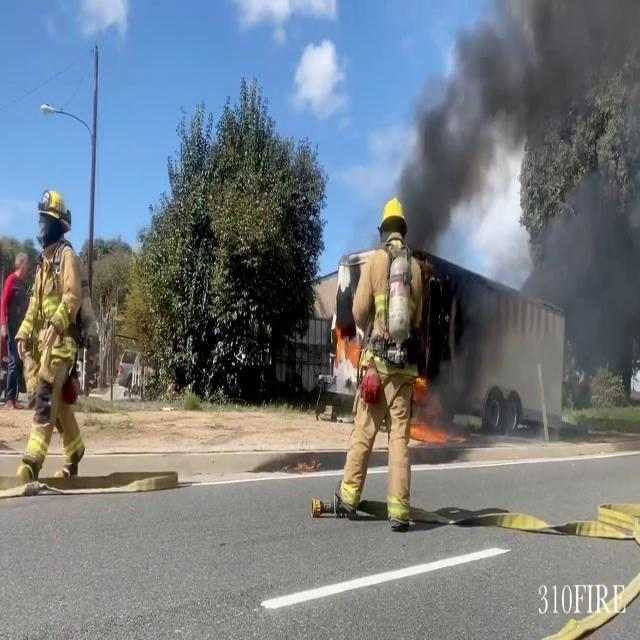Smoke: (387, 0, 640, 246), (533, 156, 640, 402)
